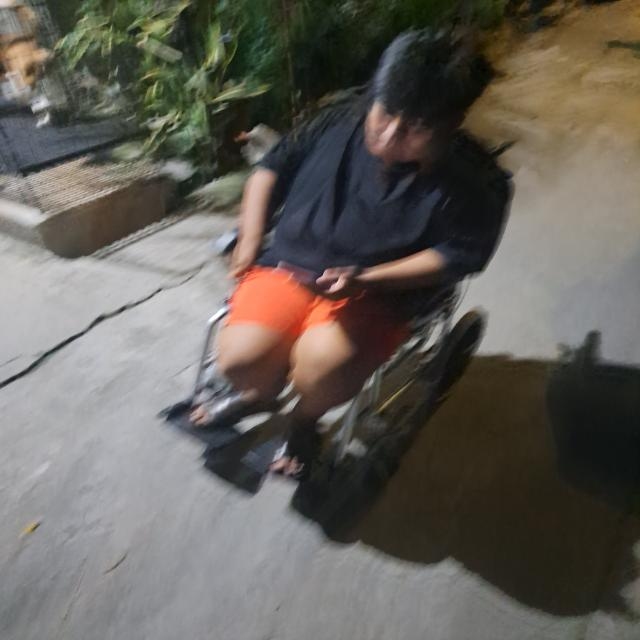wheelchairs: (158, 135, 518, 489)
